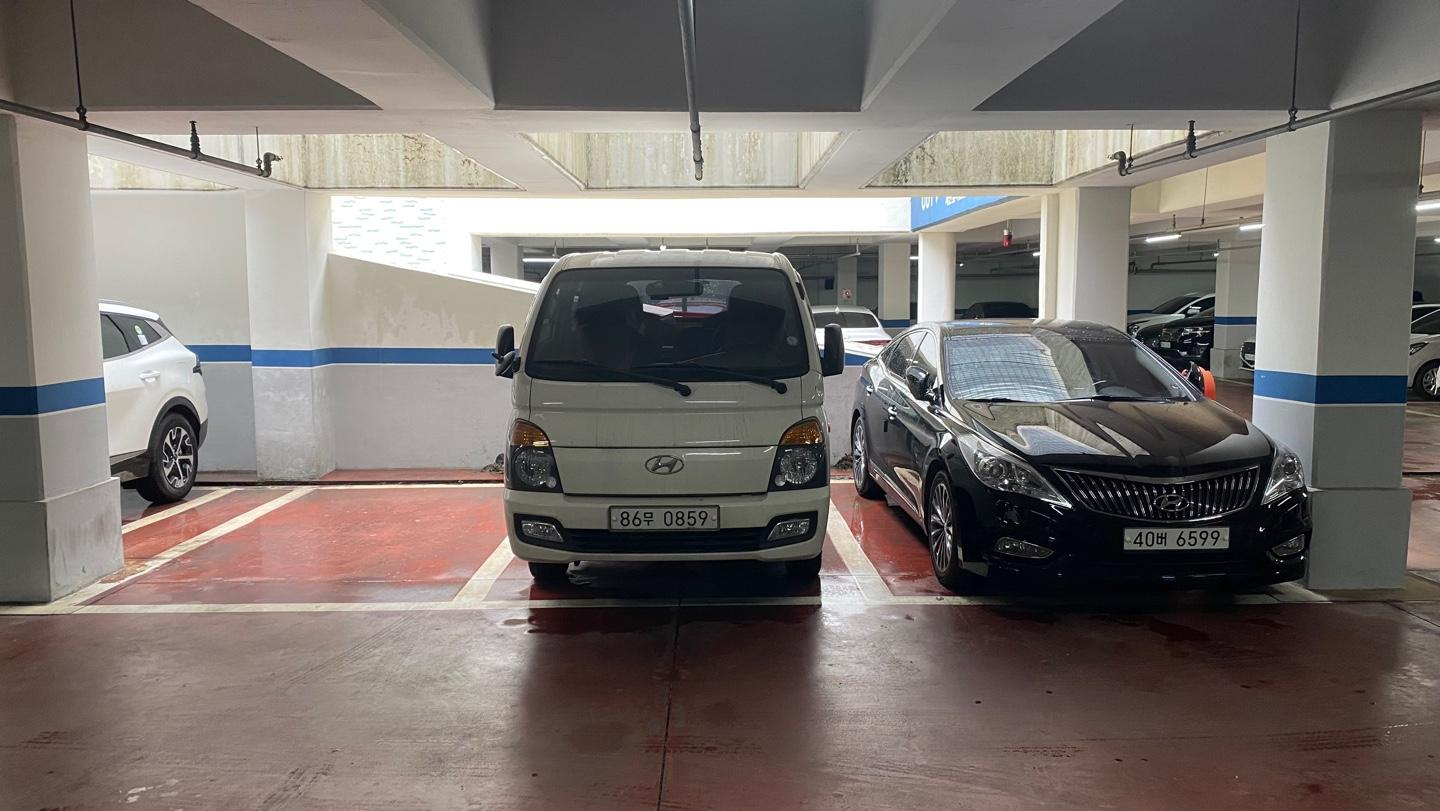empty: (33, 480, 514, 611)
occupied: (865, 317, 1311, 606), (496, 247, 847, 578)
